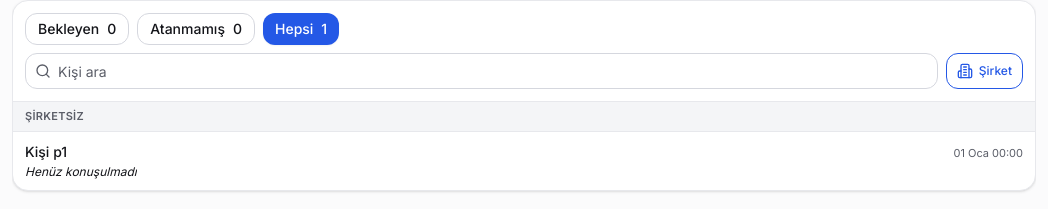
it: PeopleList — grouping by company › turns the grouping off again, restoring the activity sort
The image size is (1048, 209).
expect the button with test id "person-row-p1" is shown: met, box [13, 132, 1035, 190]
Click the button with test id "group-toggle" at (984, 71), box [946, 53, 1023, 89]
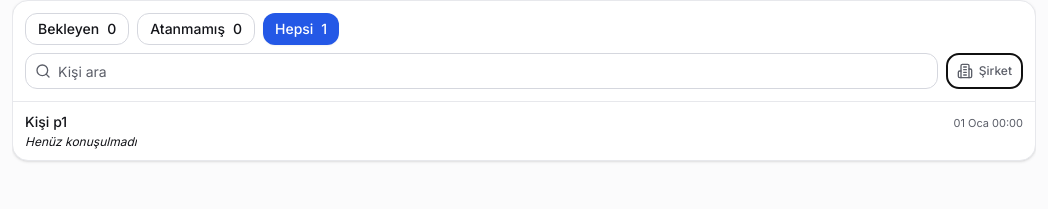
expect the list item with test id "people-group-none" is gone: met
